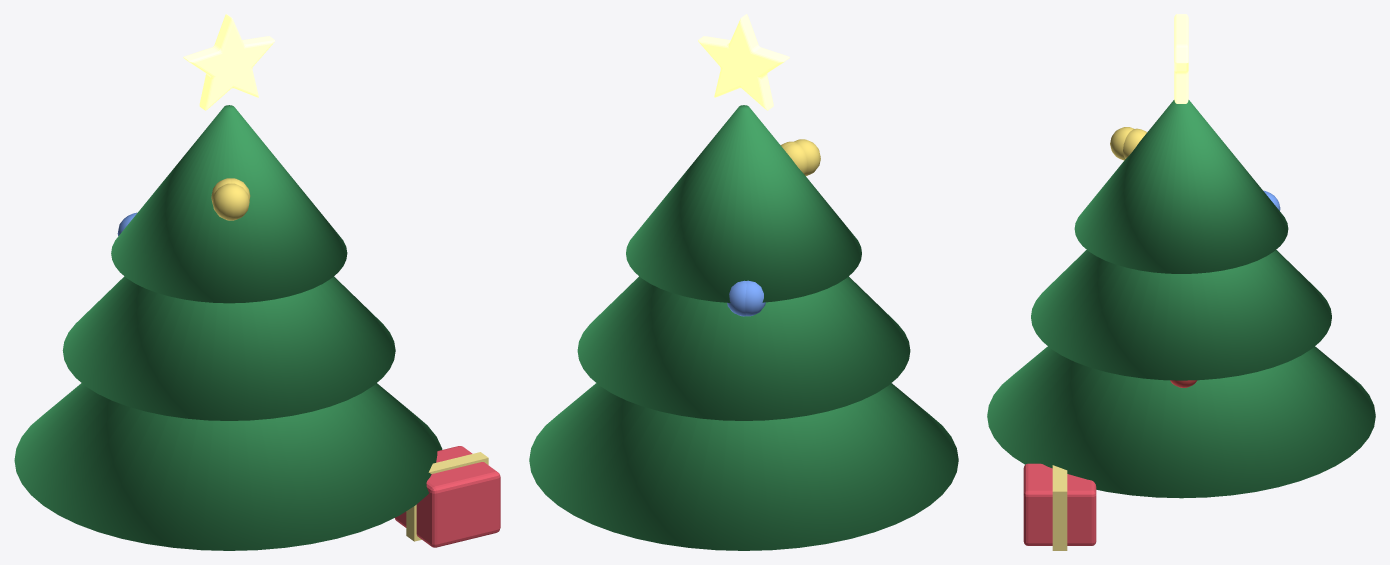
The model's file is christmas_tree.glb.
3 views of the same model, side by side, from view 1: azimuth 30°, elevation 25°; view 2: azimuth 150°, elevation 25°; view 3: azimuth 270°, elevation 25° (orthographic). The views are drawn at different scales.
Visible parts, largest first — view 1: Cone, Cone.001, Cone.002, Cube, poly, Sphere.005, Cube.001; view 2: Cone, Cone.001, Cone.002, poly, Sphere.007, Sphere.001; view 3: Cone, Cone.001, Cone.002, Cube, Cube.001, poly.
Part boxes in pixels (<box>): Cone: <box>14,383,442,550</box>; Cone.001: <box>62,276,395,420</box>; Cone.002: <box>111,105,347,303</box>; Cube: <box>395,446,500,547</box>; poly: <box>183,14,275,110</box>; Sphere.005: <box>212,183,249,220</box>; Cube.001: <box>406,452,488,541</box>; Cone: <box>529,383,958,550</box>; Cone.001: <box>577,276,910,420</box>; Cone.002: <box>626,105,861,302</box>; poly: <box>698,14,789,110</box>; Sphere.007: <box>745,280,765,316</box>; Sphere.001: <box>727,280,746,316</box>; Cone: <box>987,346,1375,498</box>; Cone.001: <box>1031,250,1331,380</box>; Cone.002: <box>1074,100,1288,273</box>; Cube: <box>1023,463,1096,545</box>; Cube.001: <box>1052,465,1067,550</box>; poly: <box>1174,14,1188,103</box>.
Size of the model in its own units: 1.1 by 1.41 by 1.1.
